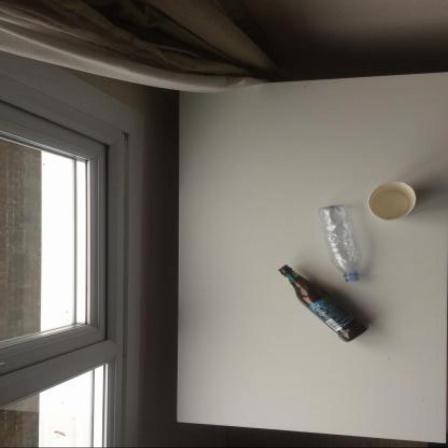Bottle: (279, 266, 369, 344), (318, 206, 363, 284)
Cup: (369, 183, 417, 223)
